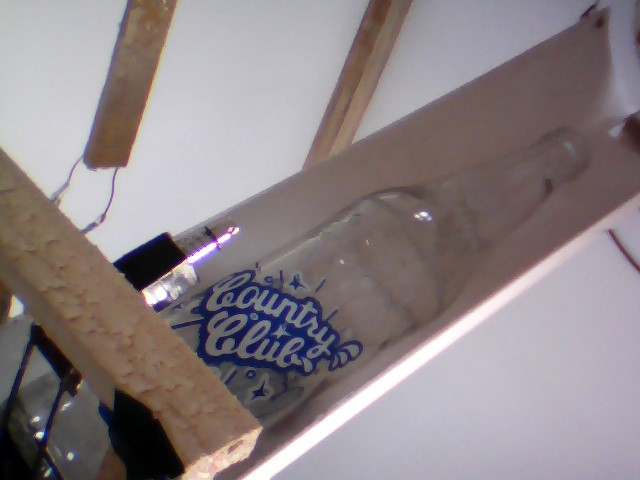vidrio: (178, 117, 597, 427)
